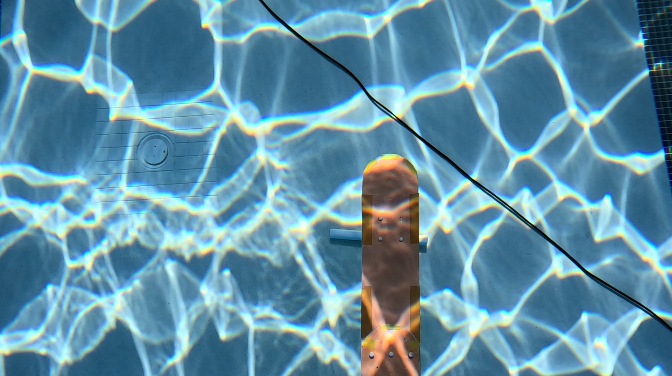pathmarker: (360, 153, 419, 374)
